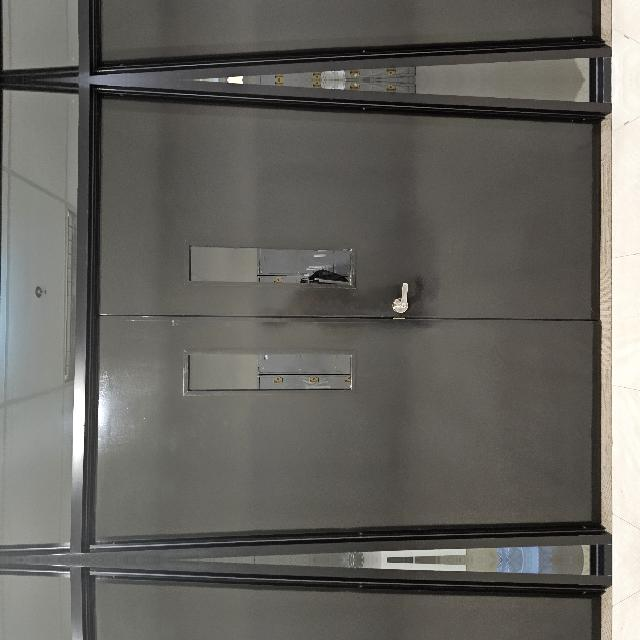door: (10, 163, 474, 640), (10, 433, 474, 640)
